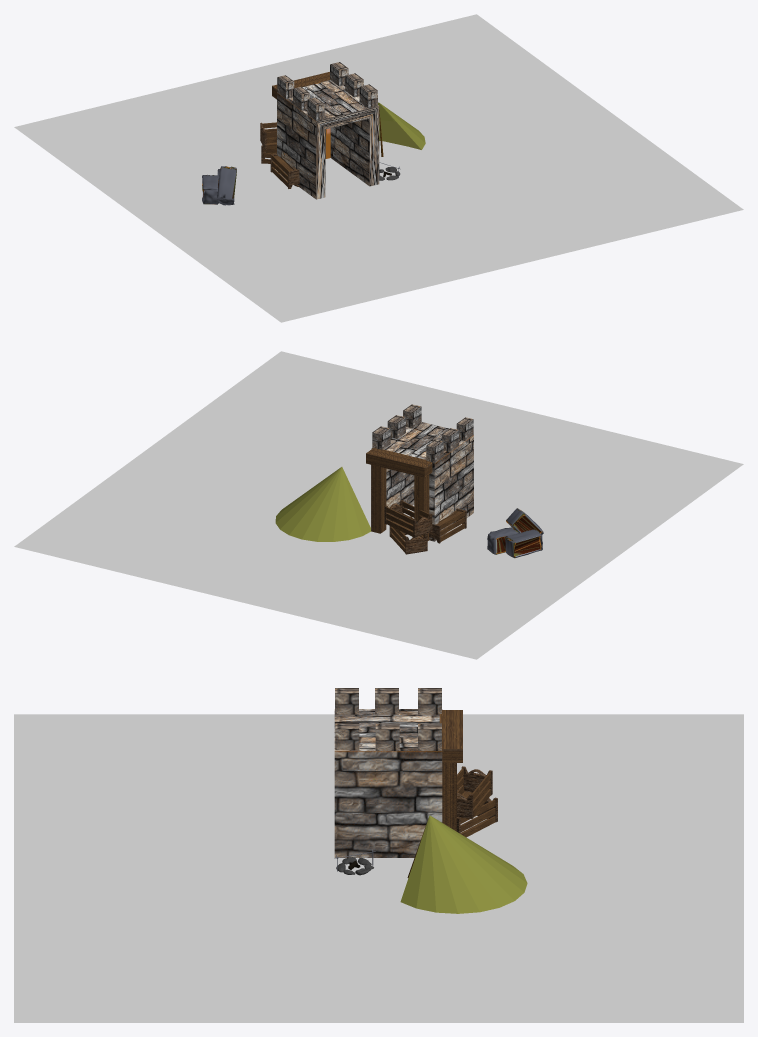
The model's file is couloirPorte.fbx.
3 renders of one model, top to bottom at view 1: azimuth 30°, elevation 25°; view 2: azimuth 150°, elevation 25°; view 3: azimuth 270°, elevation 25°, orthographic. The views are drawn at different scales.
Visible parts, largest first — view 1: SolFictif, Cube, tente, Caisses, caisseBois; view 2: SolFictif, Cube, tente, Caisses, caisseBois.002, Cube.009, Cube.007, caisseBois, Cube.008, caisseBois.001; view 3: SolFictif, Cube, tente, caisseBois.002, Cube.009, Cube.007, caisseBois.001, Cube.002, Cube.001, Cube.003, Cube.005, Cube.006 (+2 smaller).
Boxes of the visible parts, x1,y1,x2,y2 form: SolFictif: (14,14,743,322); Cube: (277,80,379,199); tente: (378,102,425,156); Caisses: (202,166,236,205); caisseBois: (270,153,299,188); SolFictif: (14,351,743,659); Cube: (371,422,473,541); tente: (275,467,371,541); Caisses: (487,508,543,558); caisseBois.002: (384,500,432,537); Cube.009: (366,448,432,477); Cube.007: (371,465,386,533); caisseBois: (429,508,466,543); Cube.008: (414,475,429,540); caisseBois.001: (389,516,427,554); SolFictif: (14,714,743,1022); Cube: (334,709,442,857); tente: (400,815,527,913); caisseBois.002: (457,766,492,818); Cube.009: (439,710,462,762); Cube.007: (442,763,456,831); caisseBois.001: (457,792,497,837); Cube.002: (375,723,399,750); Cube.001: (335,723,359,750); Cube.003: (418,723,441,750); Cube.005: (375,688,398,714); Cube.006: (335,688,358,714).
Bounding box in the file's own units: 2340 × 534 × 2340.
